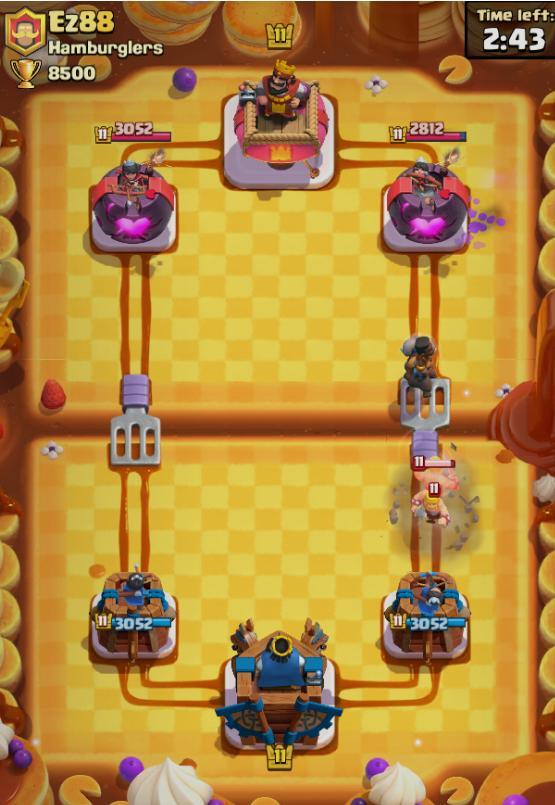EBarb: (413, 455, 459, 497), (412, 482, 449, 527)
EKingTower: (223, 60, 335, 190)
EnemyPrincessTower: (90, 149, 176, 253), (382, 158, 469, 253)
ORamrider: (402, 336, 439, 401)
OwnKingTower: (216, 620, 341, 750)
OwnPrincessTower: (383, 572, 469, 663), (91, 570, 176, 662)
